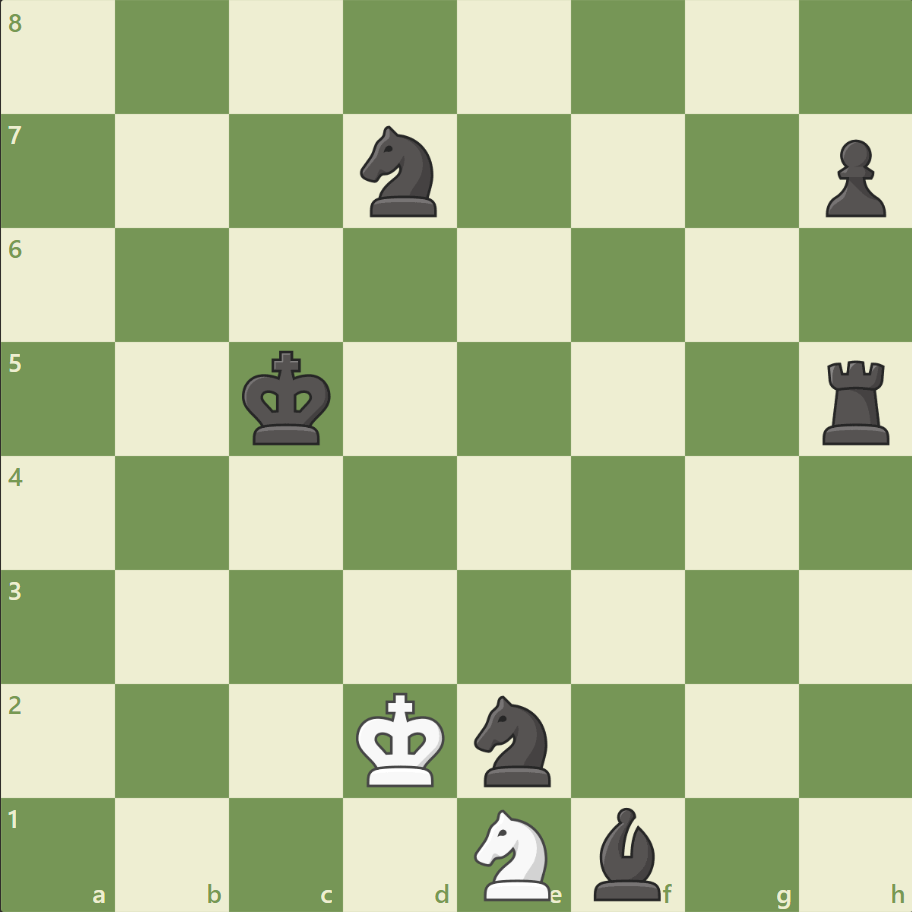K: (351, 685, 451, 793)
N: (465, 802, 562, 904)
b: (585, 801, 669, 904)
k: (238, 344, 338, 452)
n: (351, 121, 449, 223), (465, 688, 562, 791)
p: (815, 132, 889, 223)
r: (814, 352, 897, 449)
